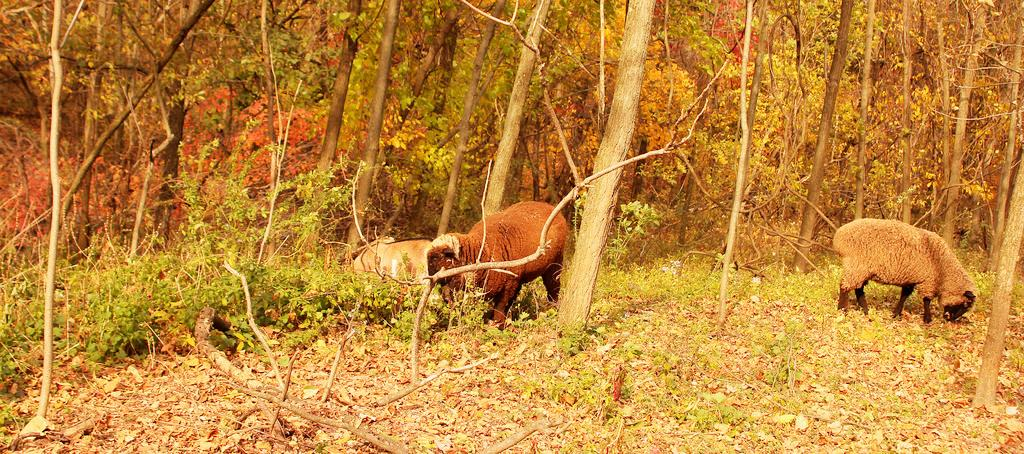Sheep: (425, 201, 564, 326), (831, 215, 981, 323), (346, 238, 432, 287)
